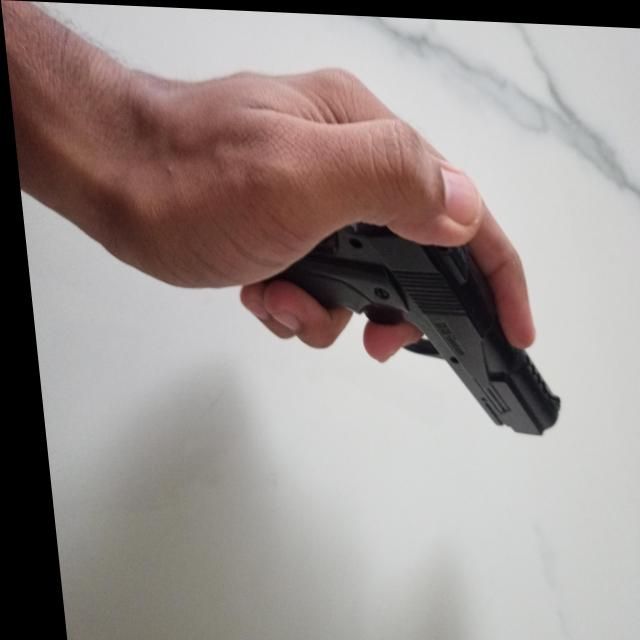handgun: (263, 214, 558, 437)
